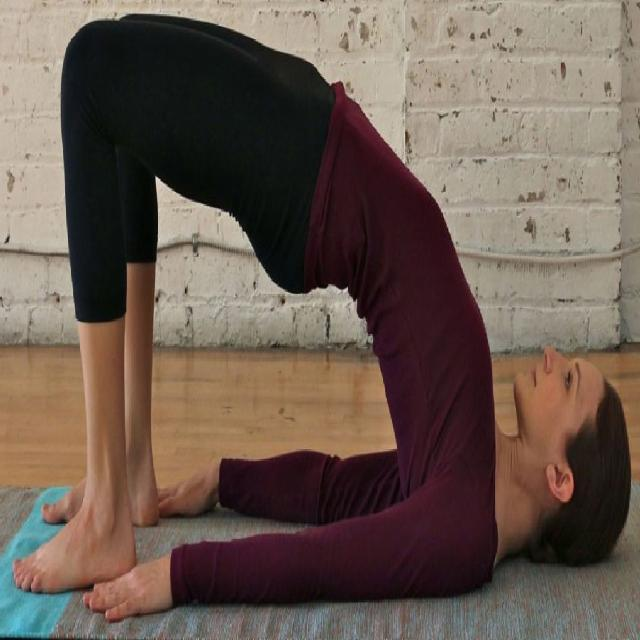yoga-pose bridge: (29, 0, 628, 615)
